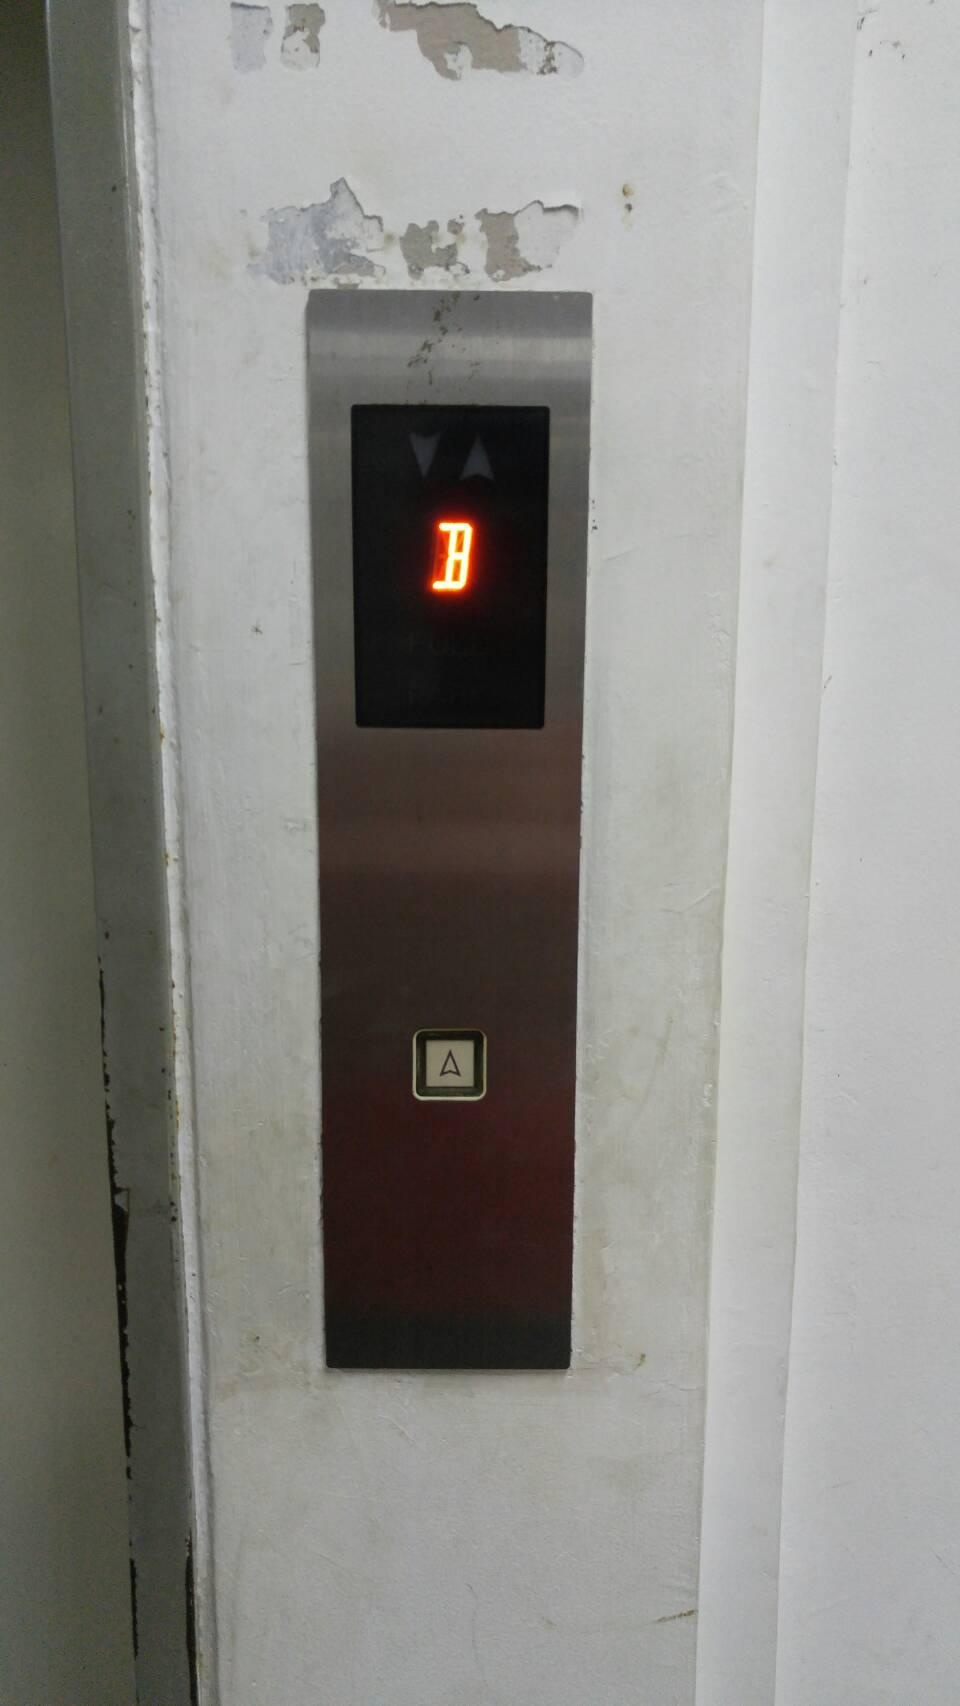led: (338, 389, 566, 746)
up: (414, 1028, 491, 1103)
